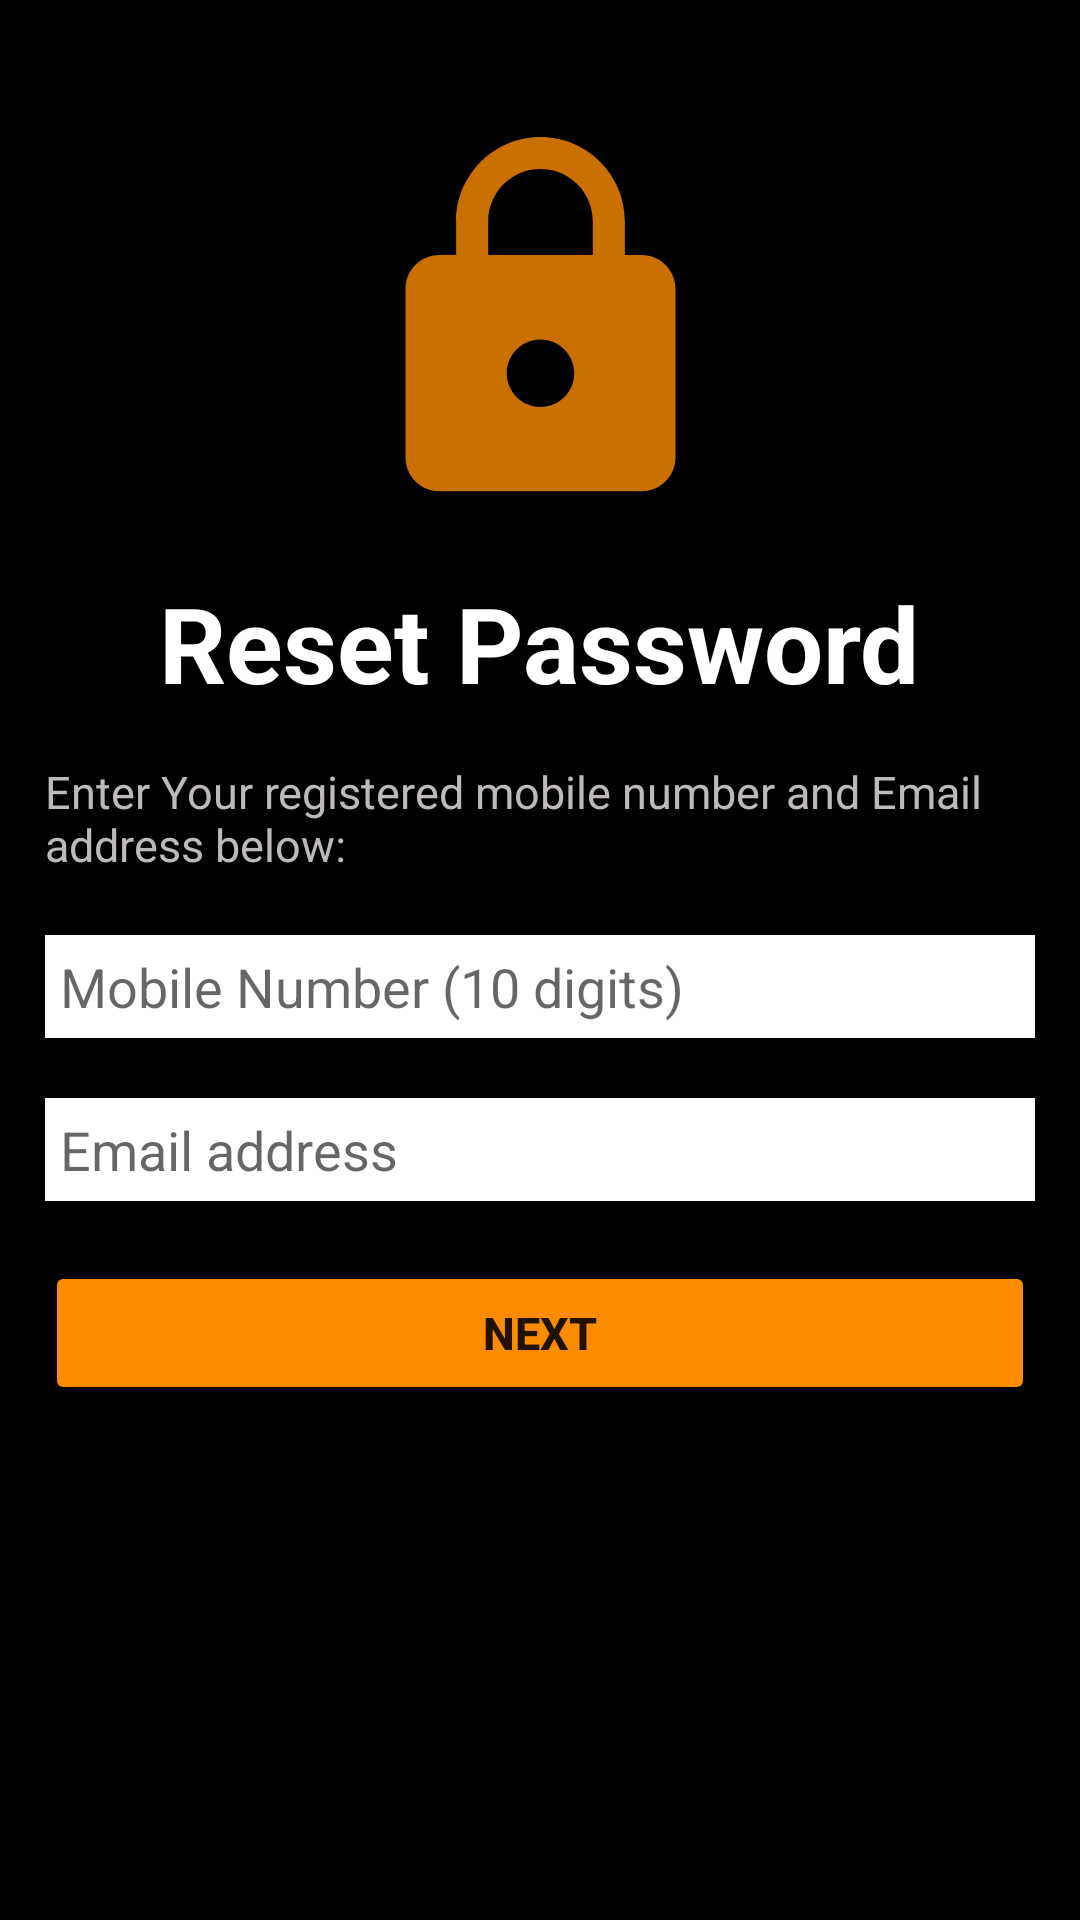

Screen size 1080x1920. Icon name, then its center in pixels as point (x, y):
forget account: point (540, 314)
